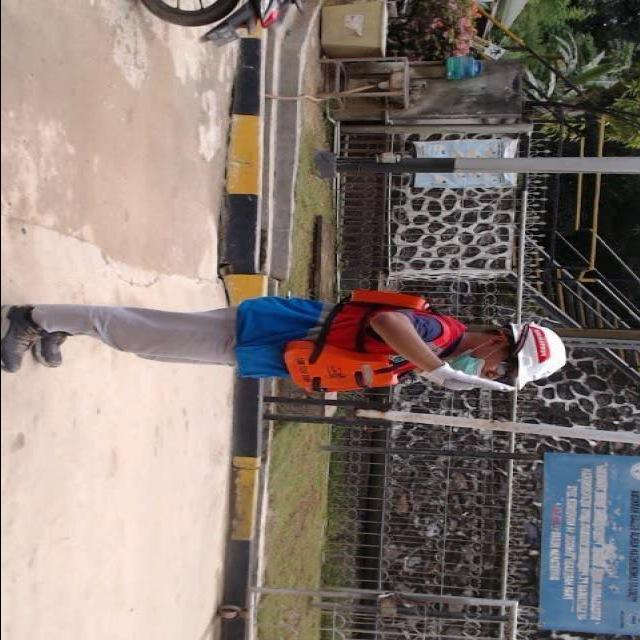helmet: (509, 314, 565, 387)
jacket: (280, 278, 468, 401)
